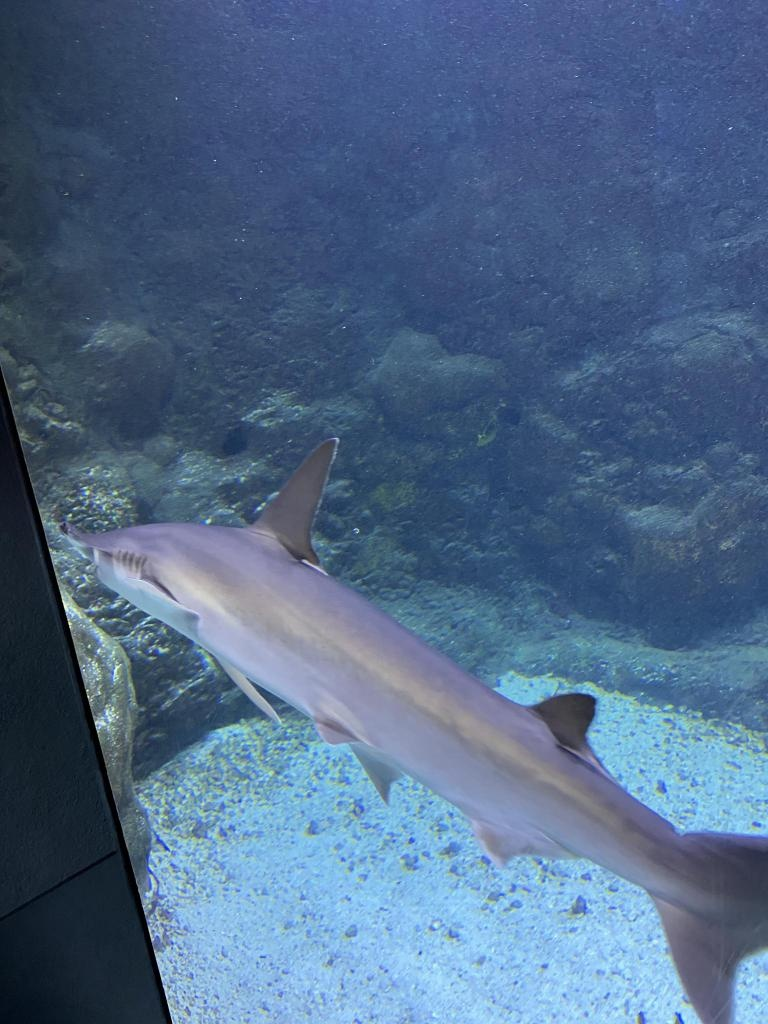shark: (62, 437, 768, 1023)
